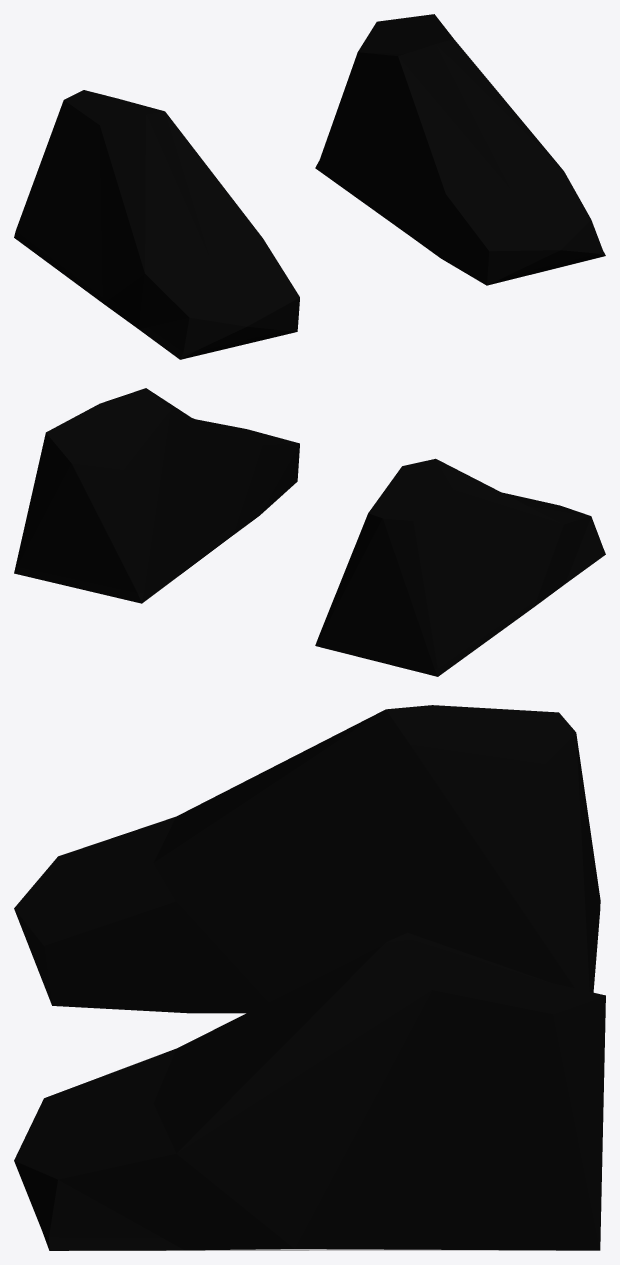
The model's file is shoes.outlaw.fbx.
The picture shows the model from 3 angles, top to bottom: view 1: azimuth 30°, elevation 25°; view 2: azimuth 150°, elevation 25°; view 3: azimuth 270°, elevation 25°; orthographic projection. The views are drawn at different scales.
Visible parts, largest first — view 1: shoes; view 2: shoes; view 3: shoes.
Boxes of the visible parts, x1=… form: shoes: x1=14, y1=14, x2=605, y2=359; shoes: x1=14, y1=388, x2=605, y2=676; shoes: x1=14, y1=705, x2=605, y2=1250.
Bounding box in the file's own units: 34.1 × 11.95 × 24.61.
